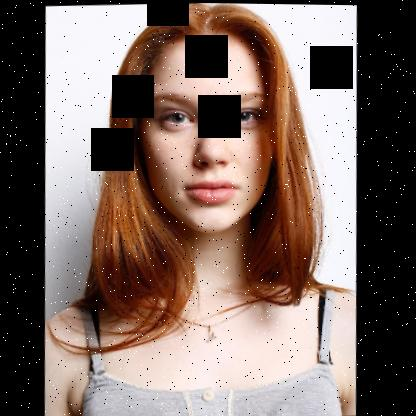Female: (133, 30, 282, 235)
